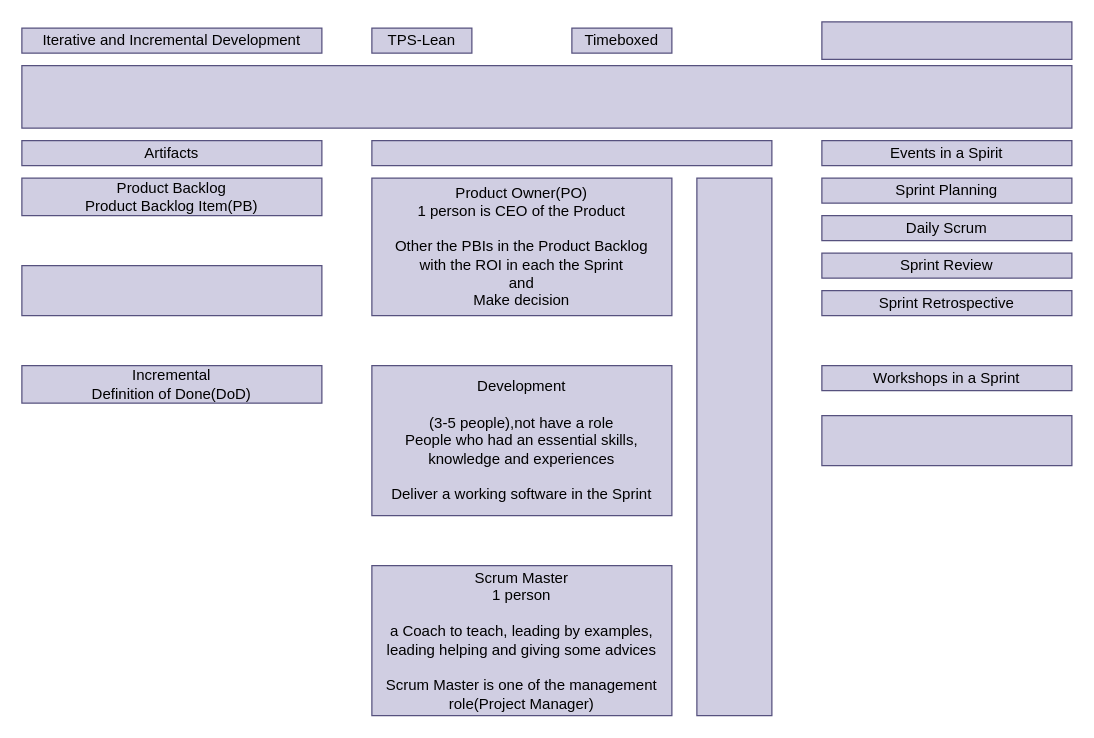
Image size: 1094x738. Some labels were removed from this diagram. Here are the shapes that lost their labels. From the top down, the centre of each, then its label:
the point at 946,40: New New Product Dev. Game
the point at 546,96: Scrum Framework
the point at 571,152: Roles
the point at 171,290: Sprint Backlog Sprint Goal(Business Goal) Selected Product Backlog items(PBI)
the point at 734,446: Scrum Team
the point at 946,440: Product Backlog Refinement Workshops
